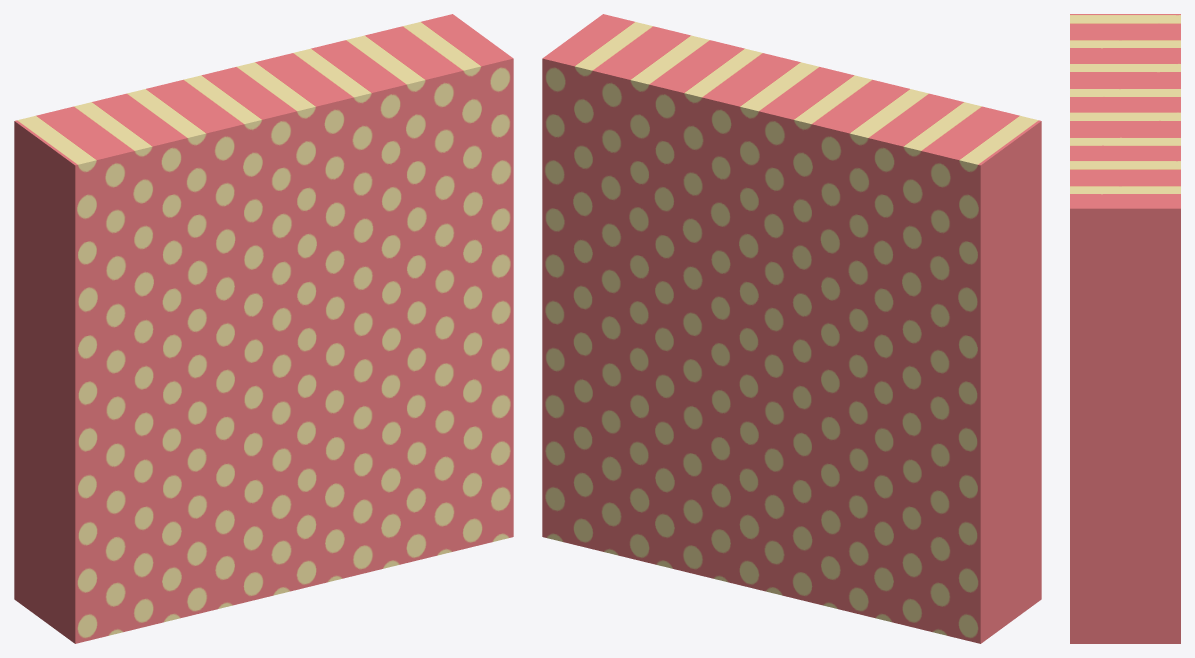
The model's file is M_wall.fbx.
3 renders of one model, left to right at view 1: azimuth 30°, elevation 25°; view 2: azimuth 150°, elevation 25°; view 3: azimuth 270°, elevation 25°, orthographic. The views are drawn at different scales.
Parts seen in each view (by area): view 1: Plane.008; view 2: Plane.008; view 3: Plane.008.
Part boxes in pixels (x1,y1,x2,y2): Plane.008: (14,14,513,643); Plane.008: (542,14,1041,643); Plane.008: (1070,14,1180,643).
Size of the model in its own units: 331 by 345 by 79.45.
